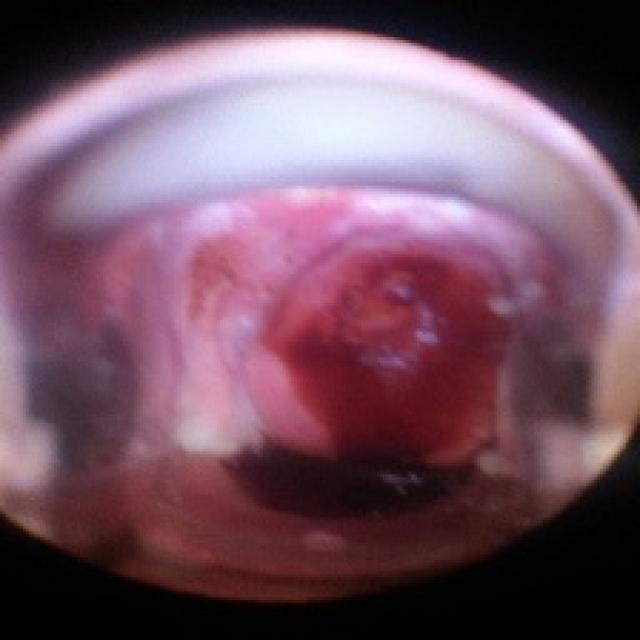type-2: (101, 145, 526, 525)
